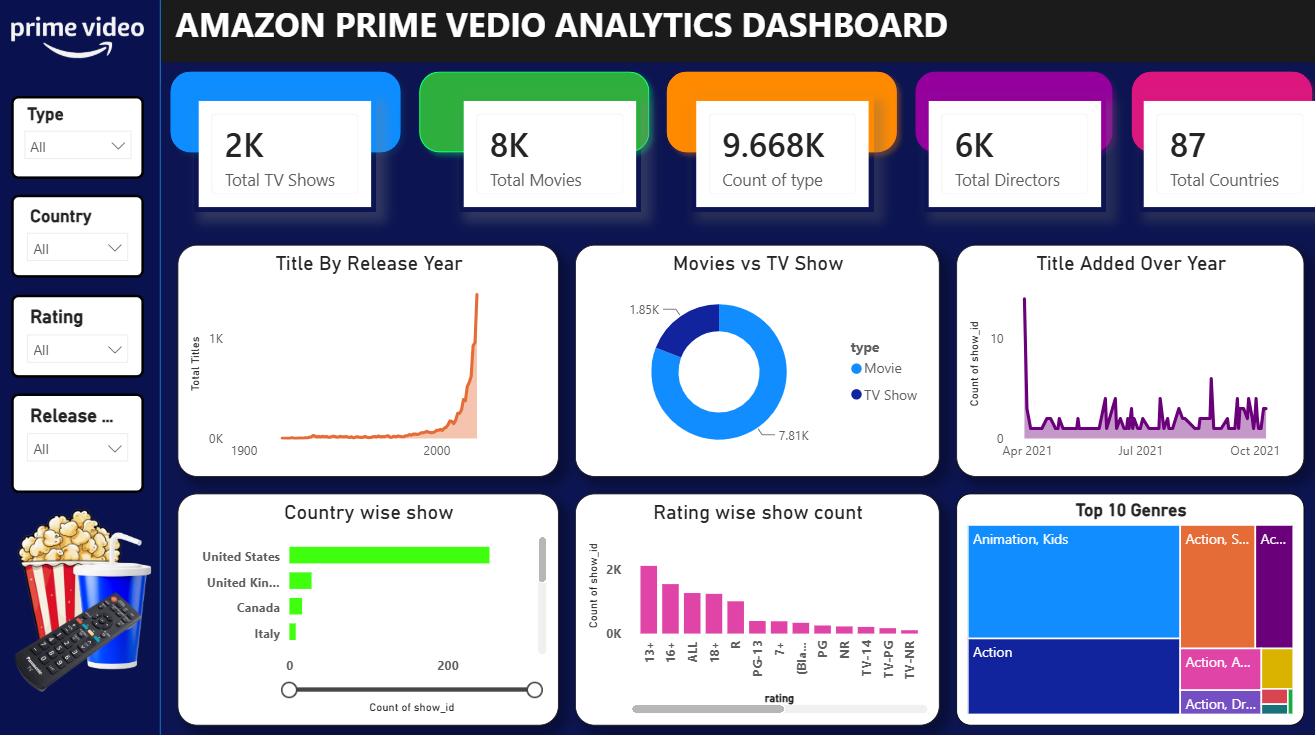

The page's visual inventory and layout, read from the dashboard file:
{"tool":"powerbi","page":{"name":"Page 1","canvas":[1280,720],"ordinal":0},"visuals":[{"type":"shape","box":[0,0,160,720],"z":0},{"type":"textbox","box":[160,0,1120,64],"z":1000},{"type":"slicer","fields":{"Values":["amazon_prime_titles.rating"]},"box":[16,288,128,80],"z":2000},{"type":"slicer","fields":{"Values":["amazon_prime_titles.release_year"]},"box":[16,384,128,96],"z":3000},{"type":"slicer","fields":{"Values":["amazon_prime_titles.country"]},"box":[16,192,128,80],"z":4000},{"type":"slicer","fields":{"Values":["amazon_prime_titles.type"]},"box":[16,96,128,80],"z":5000},{"type":"shape","box":[160,64,240,96],"z":6000},{"type":"shape","box":[400,64,240,96],"z":7000},{"type":"shape","box":[640,64,240,96],"z":8000},{"type":"shape","box":[880,64,208,96],"z":9000},{"type":"shape","box":[1088,64,192,96],"z":10000},{"type":"cardVisual","fields":{"Data":["amazon_prime_titles.Total Movies"]},"box":[448,96,176,112],"z":11000},{"type":"cardVisual","fields":{"Data":["CountNonNull(amazon_prime_titles.type)"]},"box":[672,96,176,112],"z":12000},{"type":"cardVisual","fields":{"Data":["amazon_prime_titles.Total Directors"]},"box":[896,96,176,112],"z":13000},{"type":"cardVisual","fields":{"Data":["amazon_prime_titles.Total Countries"]},"box":[1104,96,176,112],"z":14000},{"type":"areaChart","title":"Title By Release Year","fields":{"Category":["amazon_prime_titles.release_year"],"Y":["amazon_prime_titles.Total Titles"]},"box":[176,240,368,224],"z":15000},{"type":"donutChart","title":"Movies vs TV Show","fields":{"Category":["amazon_prime_titles.type"],"Y":["CountNonNull(amazon_prime_titles.show_id)"]},"box":[560,240,352,224],"z":16000},{"type":"areaChart","title":"Title Added Over Year","fields":{"Y":["CountNonNull(amazon_prime_titles.show_id)"],"Category":["amazon_prime_titles.date_added.Variation.Date Hierarchy.Year","amazon_prime_titles.date_added.Variation.Date Hierarchy.Quarter","amazon_prime_titles.date_added.Variation.Date Hierarchy.Month","amazon_prime_titles.date_added.Variation.Date Hierarchy.Day"]},"box":[928,240,336,224],"z":17000},{"type":"image","box":[16,0,128,80],"z":18000},{"type":"image","box":[0,480,144,160],"z":19000},{"type":"image","box":[16,496,192,176],"z":20000},{"type":"image","box":[0,576,160,96],"z":21000},{"type":"cardVisual","fields":{"Data":["amazon_prime_titles.Total TV Shows"]},"box":[192,96,176,112],"z":22000},{"type":"barChart","title":"Country wise show","fields":{"Category":["amazon_prime_titles.country"],"Y":["CountNonNull(amazon_prime_titles.show_id)"]},"box":[176,480,368,224],"z":23000},{"type":"clusteredColumnChart","title":"Rating wise show count","fields":{"Category":["amazon_prime_titles.rating"],"Y":["CountNonNull(amazon_prime_titles.show_id)"]},"box":[560,480,352,224],"z":24000},{"type":"treemap","title":"Top 10 Genres","fields":{"Values":["CountNonNull(amazon_prime_titles.show_id)"],"Group":["amazon_prime_titles.listed_in"]},"box":[928,480,336,224],"z":25000}]}

Visuals, with their boxes in screenshot pixels (x1, y1, x2, y2), scaled from the page's 1280x720 canvas onto the 1315x735 screenshot:
shape: crop(0, 0, 164, 734)
textbox: crop(164, 0, 1314, 65)
slicer - amazon_prime_titles.rating: crop(16, 294, 148, 376)
slicer - amazon_prime_titles.release_year: crop(16, 392, 148, 490)
slicer - amazon_prime_titles.country: crop(16, 196, 148, 278)
slicer - amazon_prime_titles.type: crop(16, 98, 148, 180)
shape: crop(164, 65, 411, 163)
shape: crop(411, 65, 658, 163)
shape: crop(658, 65, 904, 163)
shape: crop(904, 65, 1118, 163)
shape: crop(1118, 65, 1314, 163)
cardVisual - amazon_prime_titles.Total Movies: crop(460, 98, 641, 212)
cardVisual - CountNonNull(amazon_prime_titles.type): crop(690, 98, 871, 212)
cardVisual - amazon_prime_titles.Total Directors: crop(920, 98, 1101, 212)
cardVisual - amazon_prime_titles.Total Countries: crop(1134, 98, 1314, 212)
"Title By Release Year" areaChart: crop(181, 245, 559, 474)
"Movies vs TV Show" donutChart: crop(575, 245, 937, 474)
"Title Added Over Year" areaChart: crop(953, 245, 1299, 474)
image: crop(16, 0, 148, 82)
image: crop(0, 490, 148, 653)
image: crop(16, 506, 214, 686)
image: crop(0, 588, 164, 686)
cardVisual - amazon_prime_titles.Total TV Shows: crop(197, 98, 378, 212)
"Country wise show" barChart: crop(181, 490, 559, 719)
"Rating wise show count" clusteredColumnChart: crop(575, 490, 937, 719)
"Top 10 Genres" treemap: crop(953, 490, 1299, 719)
